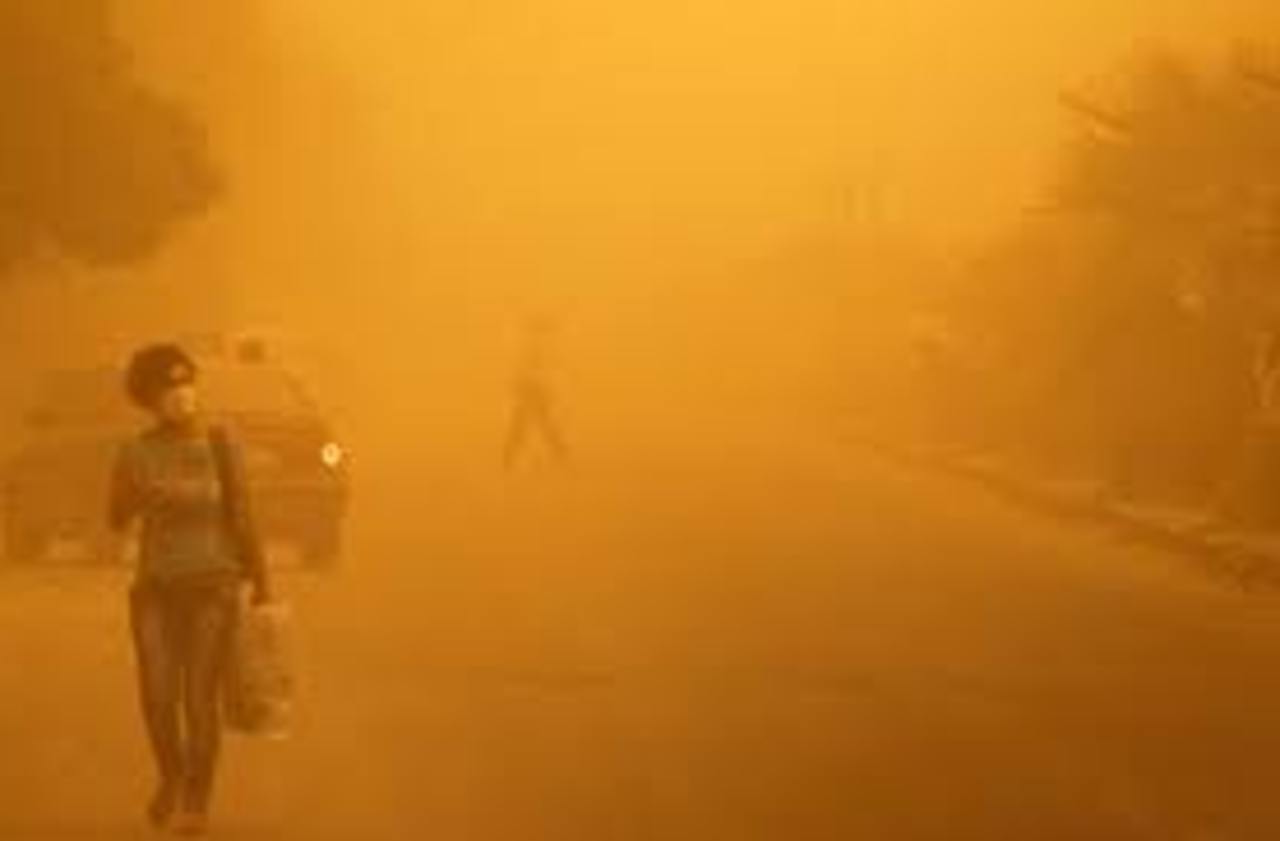car: (10, 357, 348, 572)
person: (107, 342, 263, 834), (491, 325, 567, 474)
